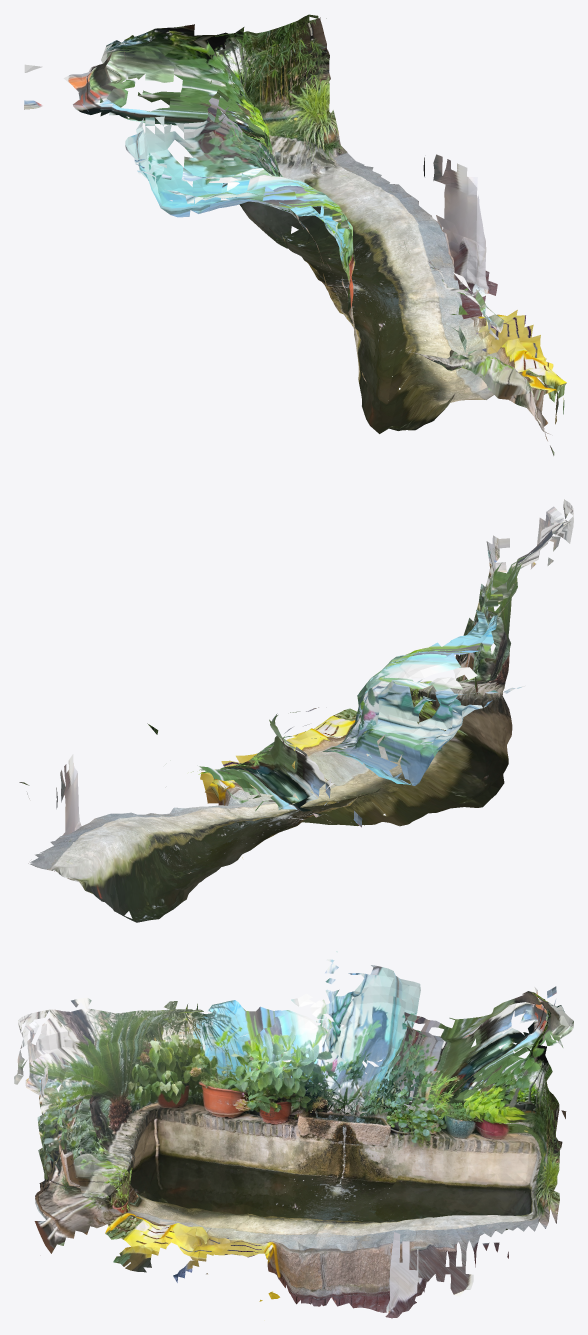
The picture shows the model from 3 angles, top to bottom: view 1: azimuth 30°, elevation 25°; view 2: azimuth 150°, elevation 25°; view 3: azimuth 270°, elevation 25°; orthographic projection. The views are drawn at different scales.
Bounding box in the file's own units: 2.84 × 2.09 × 4.15.
Materials: 1 (1 with a texture image).
